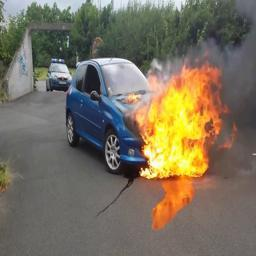fire: (128, 60, 237, 178)
